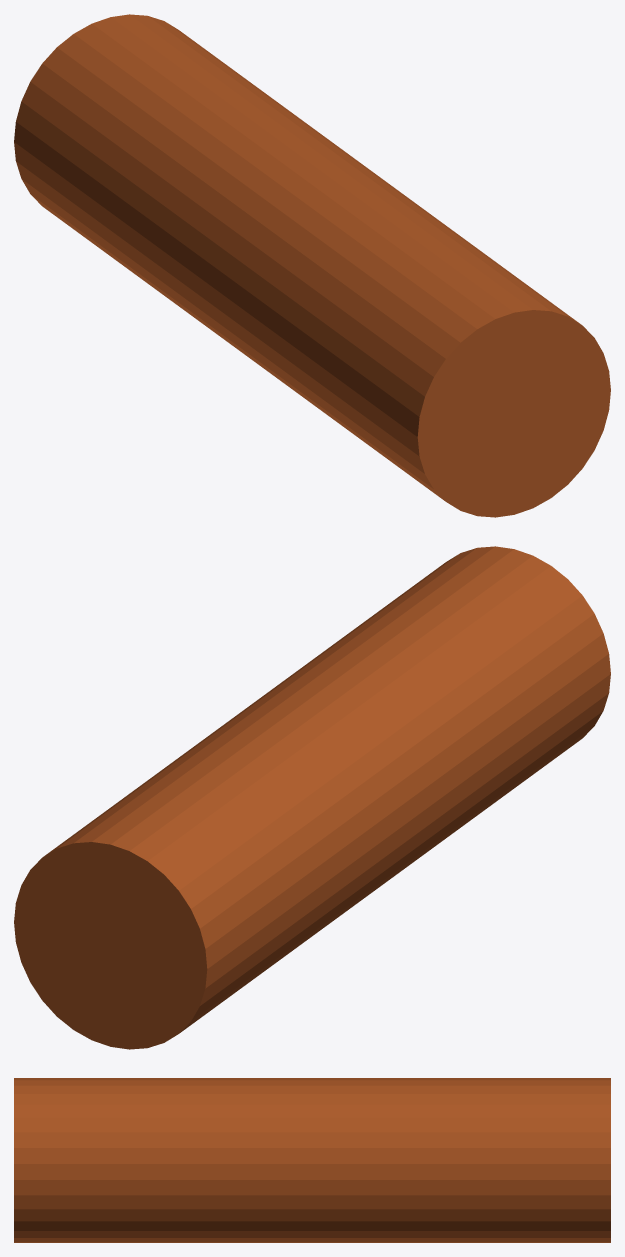
File: rope.obj
The picture shows the model from 3 angles, top to bottom: view 1: azimuth 30°, elevation 25°; view 2: azimuth 150°, elevation 25°; view 3: azimuth 270°, elevation 25°; orthographic projection. The views are drawn at different scales.
Visible parts, largest first — view 1: 円柱; view 2: 円柱; view 3: 円柱.
Boxes of the visible parts, x1,y1,x2,y2 form: 円柱: (14,14,610,517); 円柱: (14,546,610,1049); 円柱: (14,1078,610,1242).
Size of the model in its own units: 0.2764 by 0.2764 by 1.
Materials: 1 (1 with a texture image).
